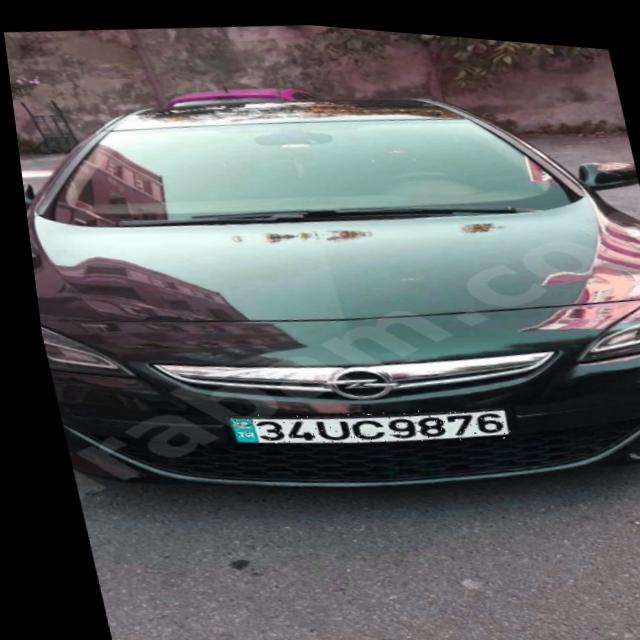license_plate: (213, 382, 504, 460)
